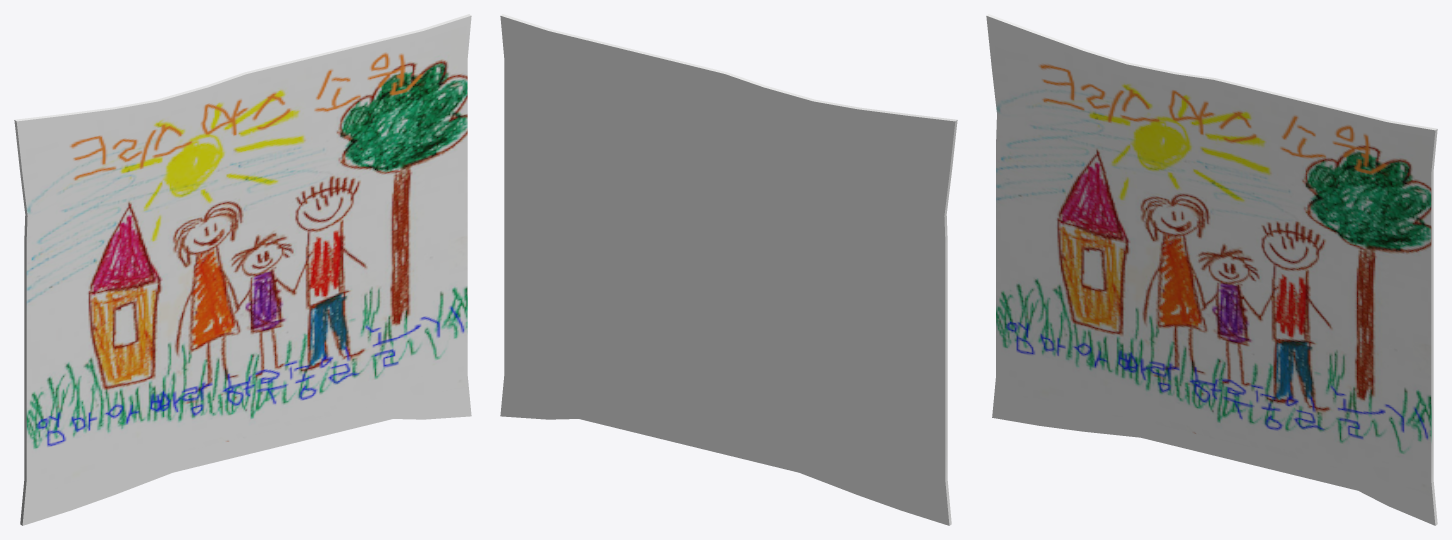
File: drawing1.fbx
3 renders of one model, left to right at view 1: azimuth 30°, elevation 25°; view 2: azimuth 150°, elevation 25°; view 3: azimuth 330°, elevation 25°, orthographic.
Visible parts, largest first — view 1: polySurface103; view 2: polySurface103; view 3: polySurface103.
Boxes of the visible parts, x1,y1,x2,y2 form: polySurface103: [14, 14, 471, 525]; polySurface103: [500, 14, 957, 525]; polySurface103: [986, 14, 1437, 525].
Bounding box in the file's own units: 16.65 × 14.19 × 0.1462.
1 material, 1 textured.
